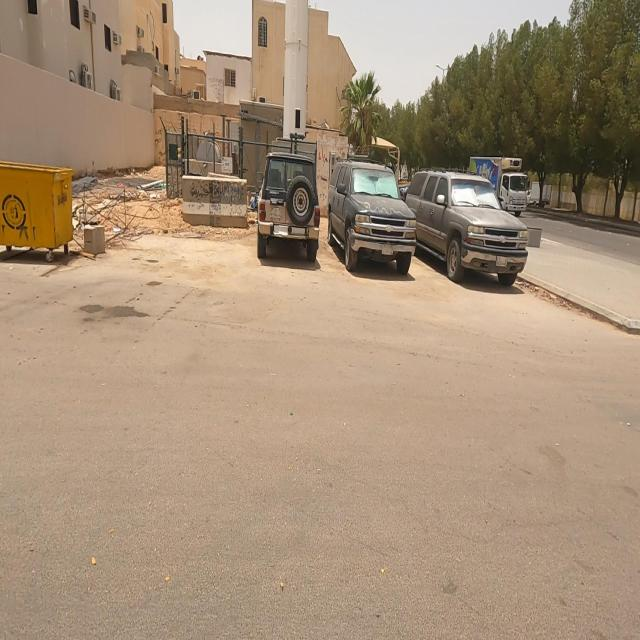Graffiti: (187, 179, 247, 216), (317, 142, 328, 202)
